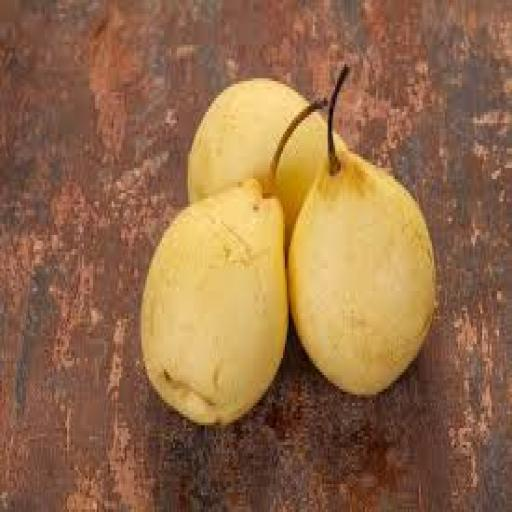Pear: (289, 140, 435, 394), (142, 182, 286, 425), (189, 79, 307, 201)
